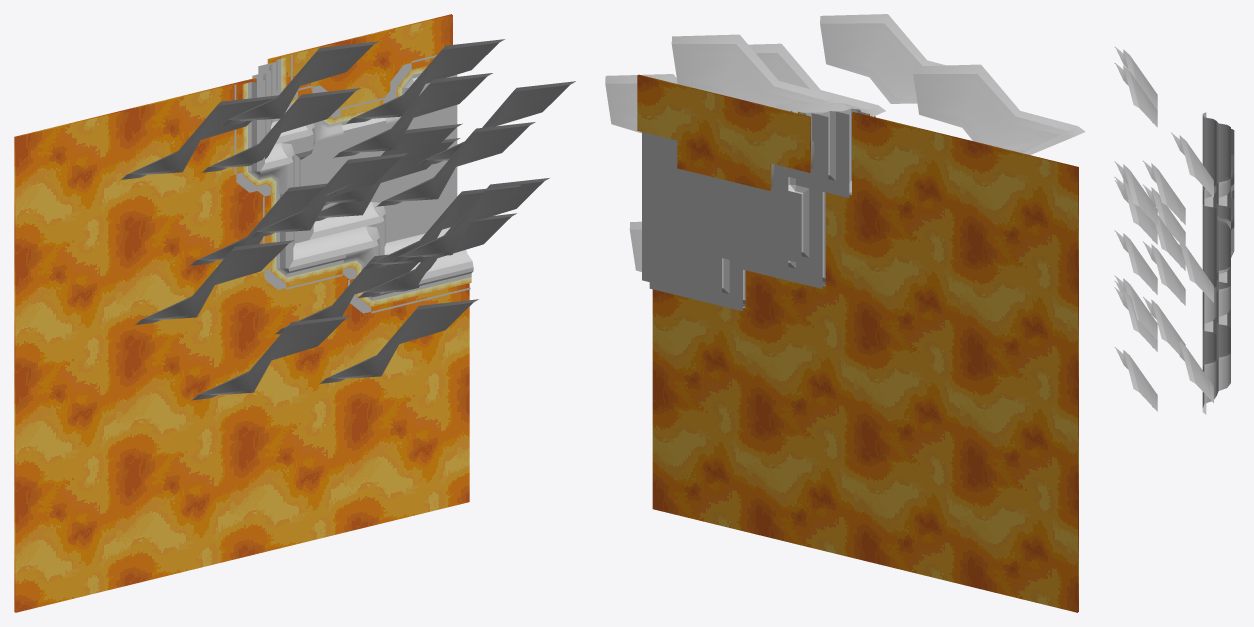
Rendered from Molten-Cave_00_02.obj.
3 views of the same model, side by side, from view 1: azimuth 30°, elevation 25°; view 2: azimuth 150°, elevation 25°; view 3: azimuth 270°, elevation 25° (orthographic). The views are drawn at different scales.
Parts seen in each view (by area): view 1: map; view 2: map; view 3: map.
Part boxes in pixels (left/top/right/bottom): map: left=14, top=14, right=575, bottom=612; map: left=605, top=14, right=1085, bottom=612; map: left=1114, top=47, right=1234, bottom=414.
Size of the model in its own units: 37.58 by 36.34 by 8.9.
